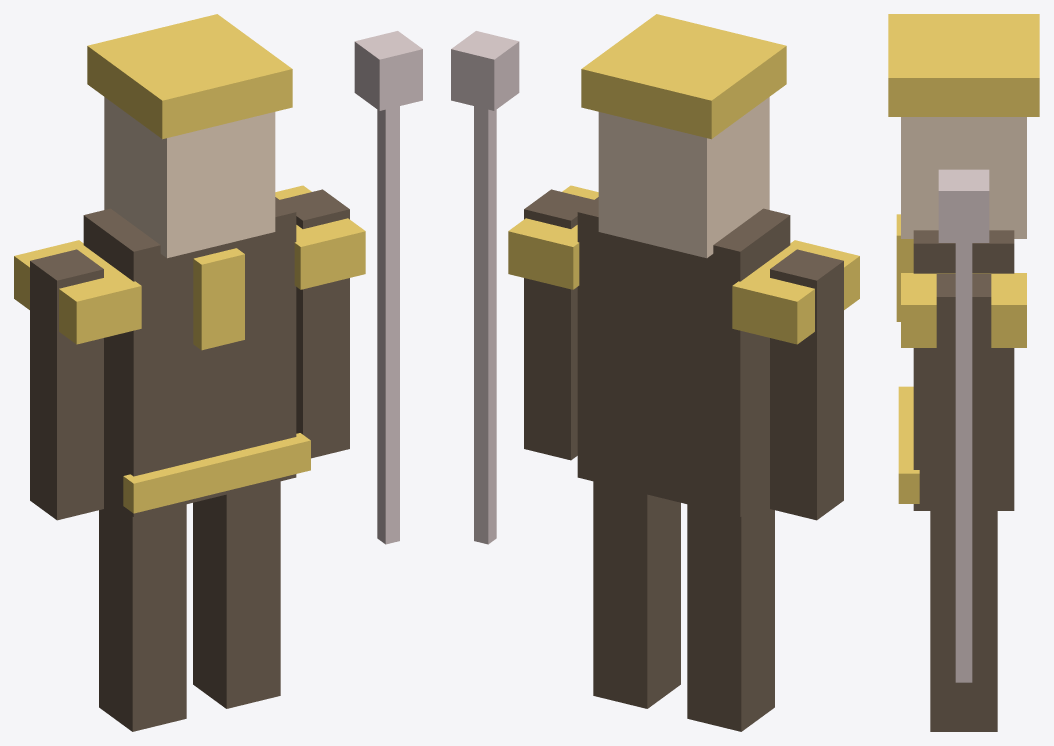
Rendered from 16_astra_runeclasp_navigator_of_loading.glb.
3 views of the same model, side by side, from view 1: azimuth 30°, elevation 25°; view 2: azimuth 150°, elevation 25°; view 3: azimuth 270°, elevation 25° (orthographic).
Parts seen in each view (by area): view 1: Astra Runeclasp, Navigator of Loading; view 2: Astra Runeclasp, Navigator of Loading; view 3: Astra Runeclasp, Navigator of Loading.
Part boxes in pixels (bbox=[...]): Astra Runeclasp, Navigator of Loading: bbox=[14, 14, 422, 731]; Astra Runeclasp, Navigator of Loading: bbox=[451, 14, 859, 731]; Astra Runeclasp, Navigator of Loading: bbox=[888, 14, 1039, 731].
Bounding box in the file's own units: 0.974 × 1.63 × 0.3455.
